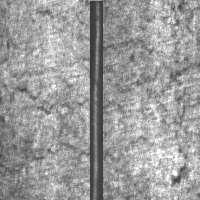crazing: (1, 87, 136, 162), (157, 1, 200, 187), (79, 36, 198, 90)
scratches: (90, 1, 103, 200)
